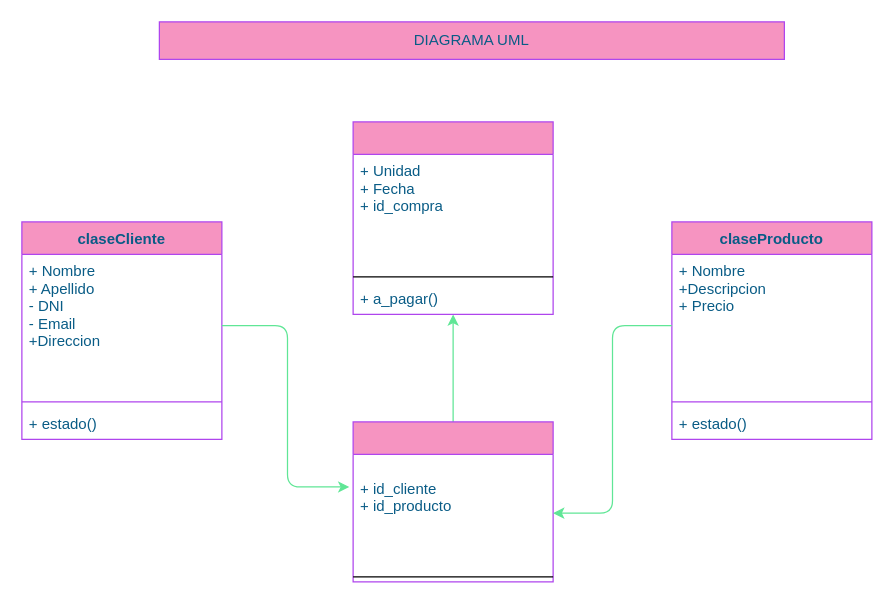
Image size: 894x604. Some labels were removed from this diagram. The box of each missing label's shape, as (x1, y1, x2, y2) in pixels:
ClaseCompra: (352, 421, 553, 582)
ClaseFactura: (352, 121, 553, 314)
